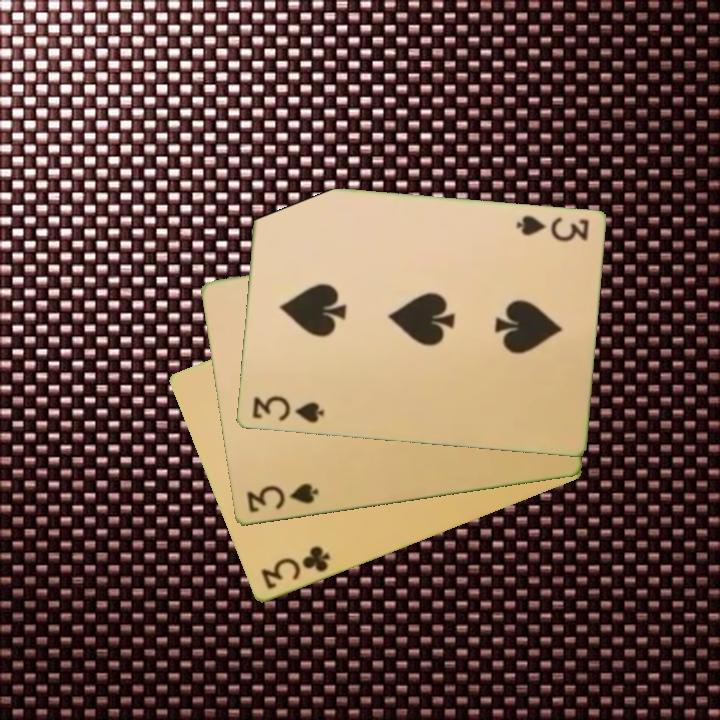3c: (257, 542, 333, 593)
3s: (243, 480, 321, 516), (248, 392, 327, 426), (512, 212, 591, 245)
